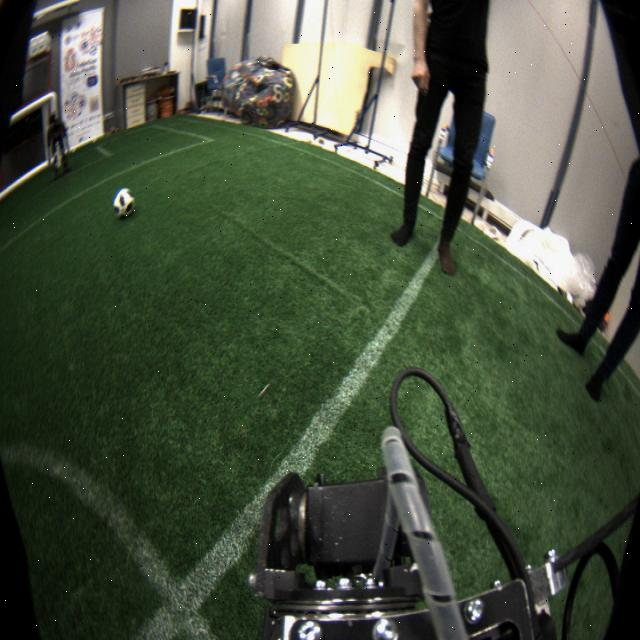ball: (113, 188, 135, 220)
goalpost: (45, 90, 63, 171)
